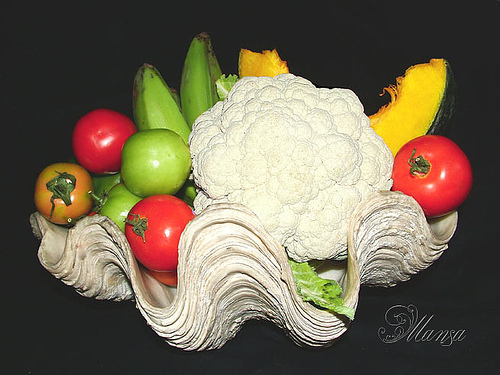cauliflower: (188, 73, 394, 262)
